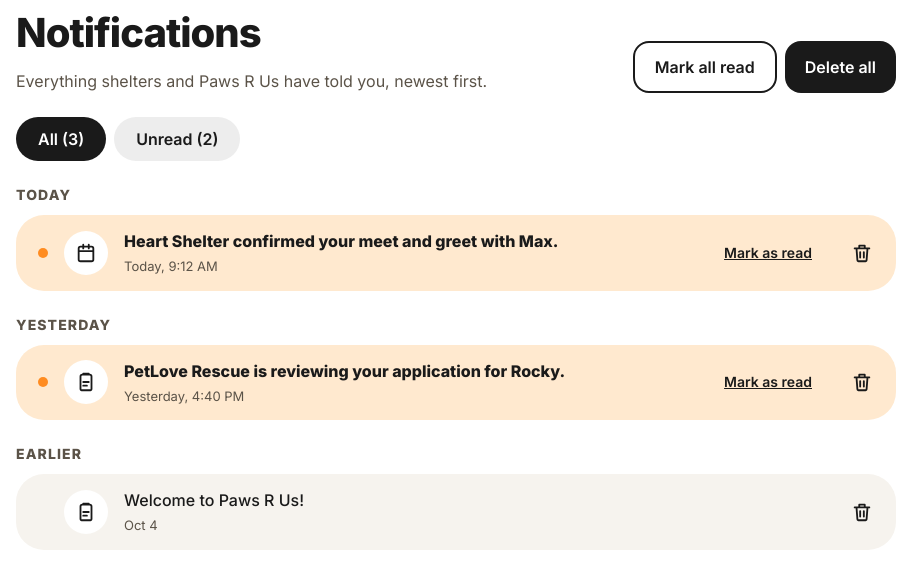
Test case: Notifications page › filters to unread only
Click the button "Unread (2)": click(177, 139) [114, 117, 240, 161]
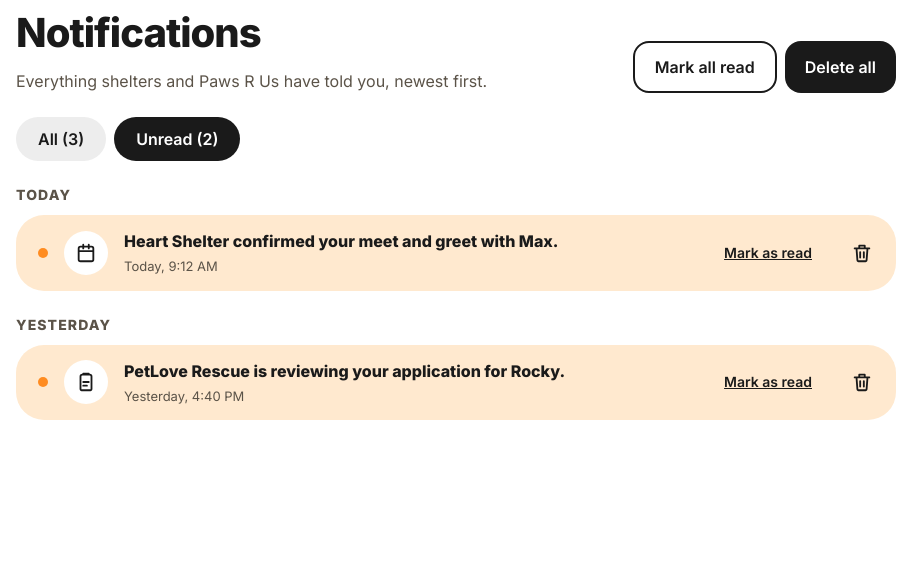
Expected: the text "Heart Shelter confirmed your meet and greet with Max." is shown, [123, 230, 558, 251]
Now the text "Welcome to Paws R Us!" is gone
